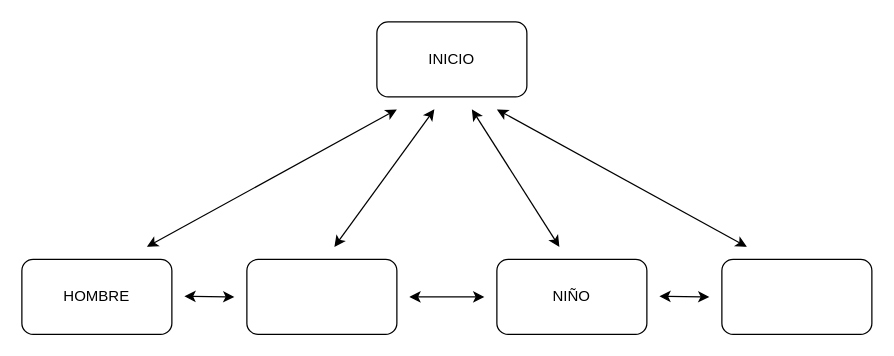
Some shapes in this 894 by 356 pixel diagram are drawn without their labels. Each missing label, with the box of its shape:
MUJER: (246, 258, 397, 334)
OUTLET: (721, 258, 872, 334)
